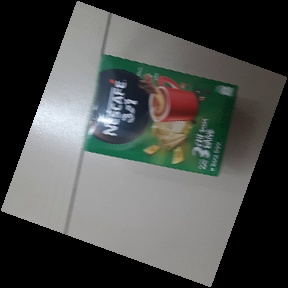Nes Rang: (83, 52, 240, 180)
